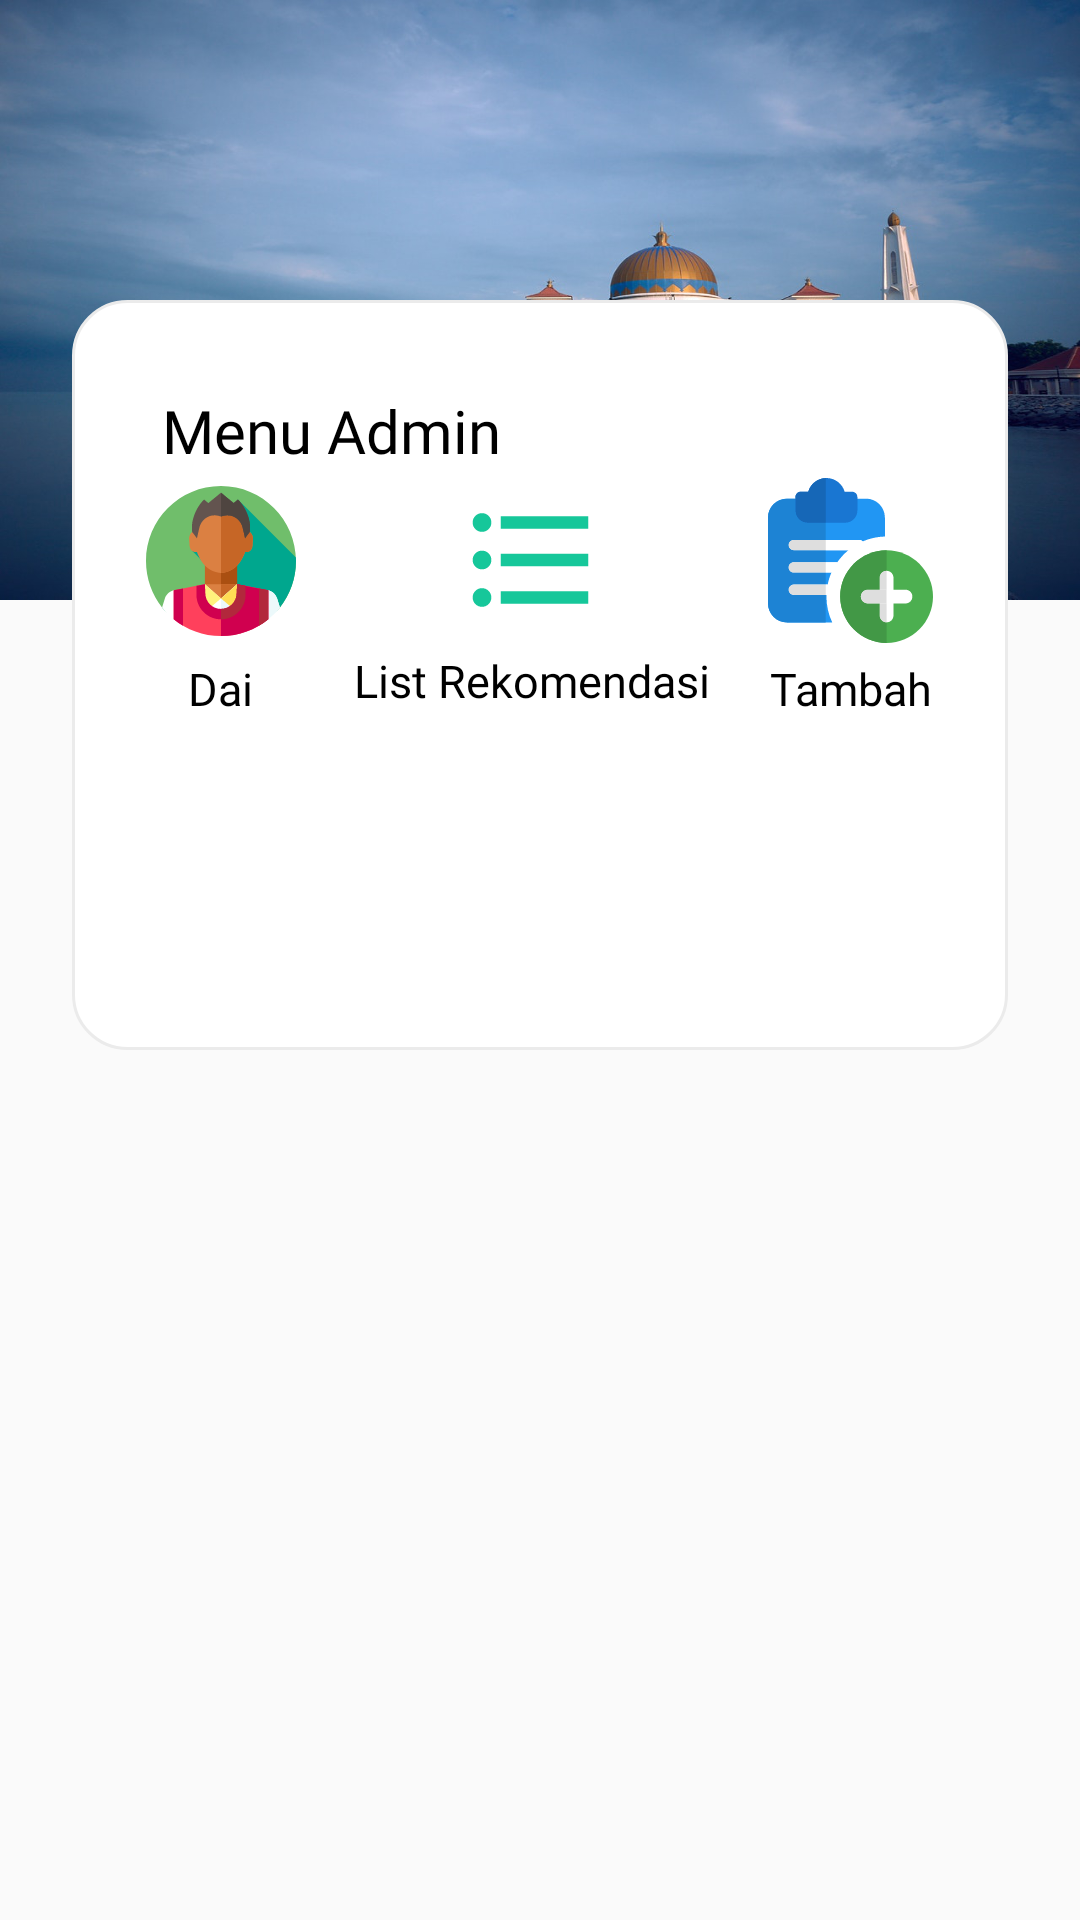

Screen size 1080x1920. Icon name, then its center in pixels as (x=x, y=y):
man: (x=221, y=561)
